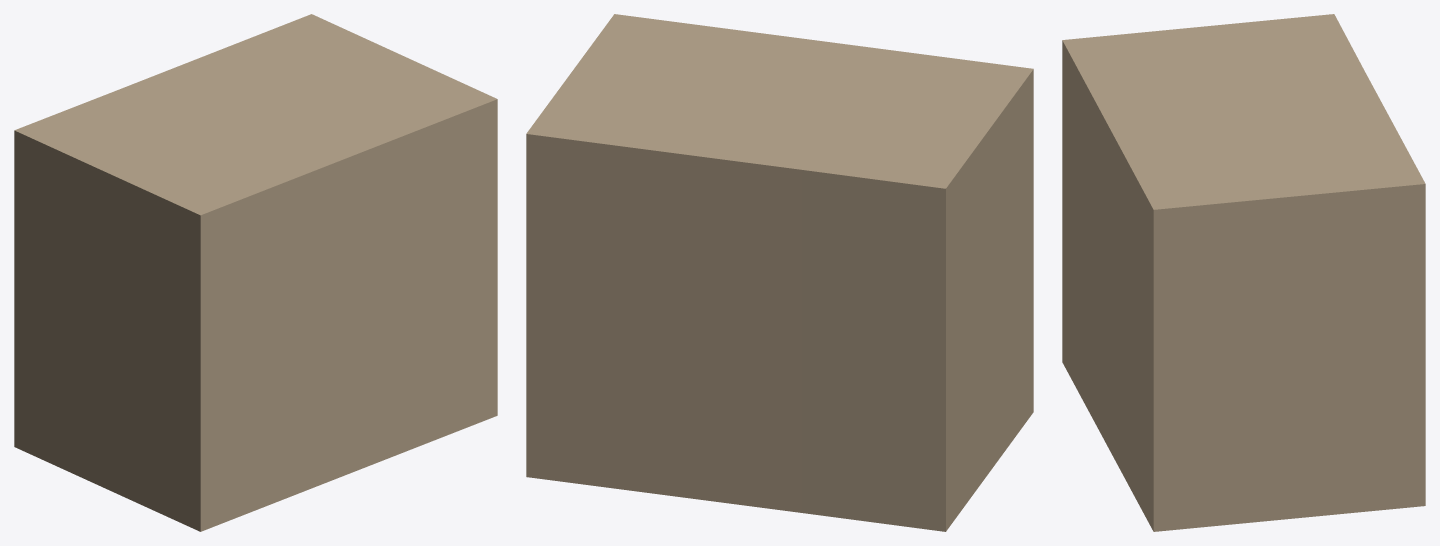
File: bld_109034824.dae
The picture shows the model from 3 angles, left to right: view 1: azimuth 30°, elevation 25°; view 2: azimuth 150°, elevation 25°; view 3: azimuth 270°, elevation 25°; orthographic projection. The views are drawn at different scales.
Parts seen in each view (by area): view 1: bld_109034824; view 2: bld_109034824; view 3: bld_109034824.
Part boxes in pixels (bbox=[...]): bld_109034824: bbox=[14, 14, 497, 531]; bld_109034824: bbox=[526, 14, 1033, 531]; bld_109034824: bbox=[1062, 14, 1425, 531].
Size of the model in its own units: 10.43 by 8.18 by 8.
